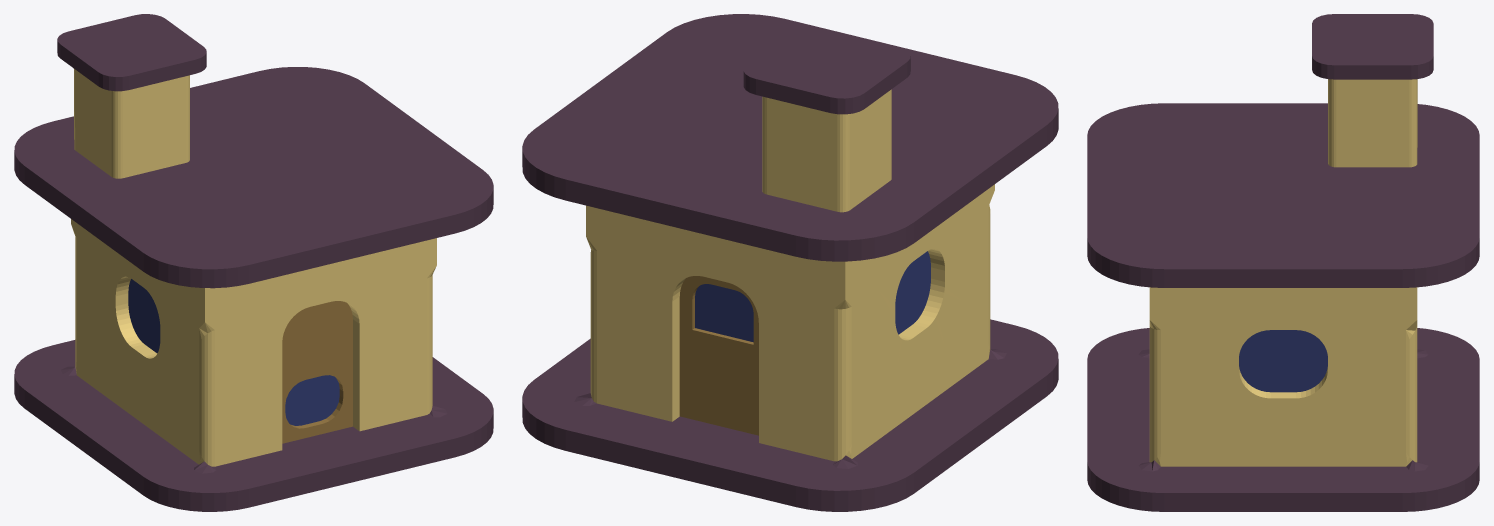
Rendered from TRMBuilding.fbx.
The picture shows the model from 3 angles, left to right: view 1: azimuth 30°, elevation 25°; view 2: azimuth 150°, elevation 25°; view 3: azimuth 270°, elevation 25°; orthographic projection. The views are drawn at different scales.
Visible parts, largest first — view 1: TRMBuilding; view 2: TRMBuilding; view 3: TRMBuilding.
Part boxes in pixels (x1=…): TRMBuilding: x1=14, y1=14, x2=493, y2=511; TRMBuilding: x1=522, y1=14, x2=1058, y2=511; TRMBuilding: x1=1087, y1=14, x2=1479, y2=511.
Bounding box in the file's own units: 7.33 × 7.24 × 7.33.
